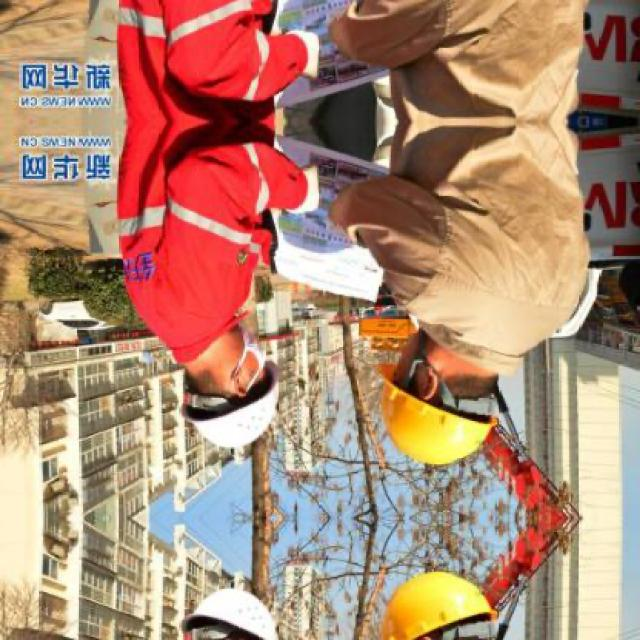con casco: (366, 370, 514, 468), (186, 365, 282, 460)
